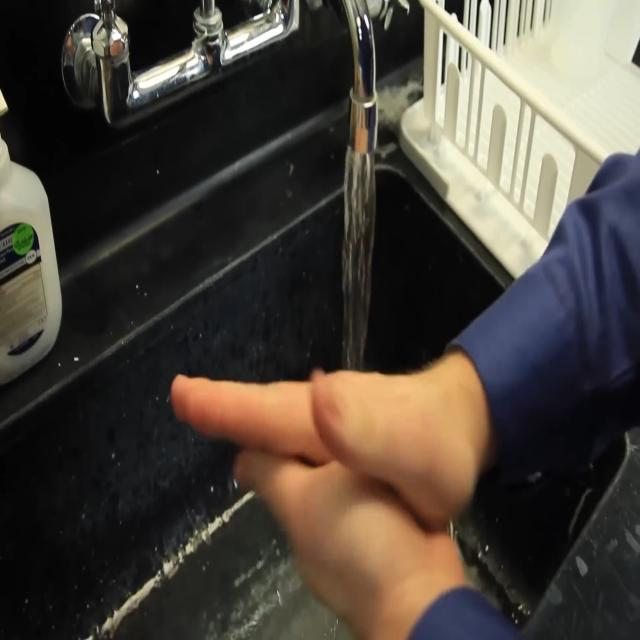dress: (401, 117, 640, 640)
